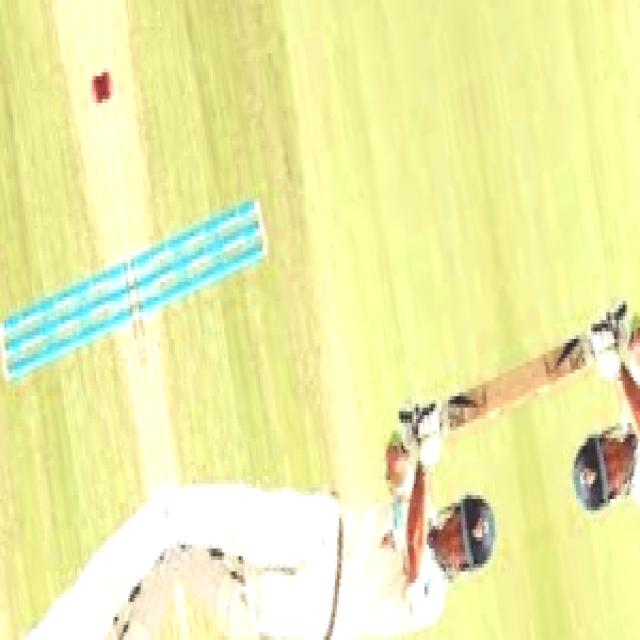toe: (518, 365, 533, 406)
